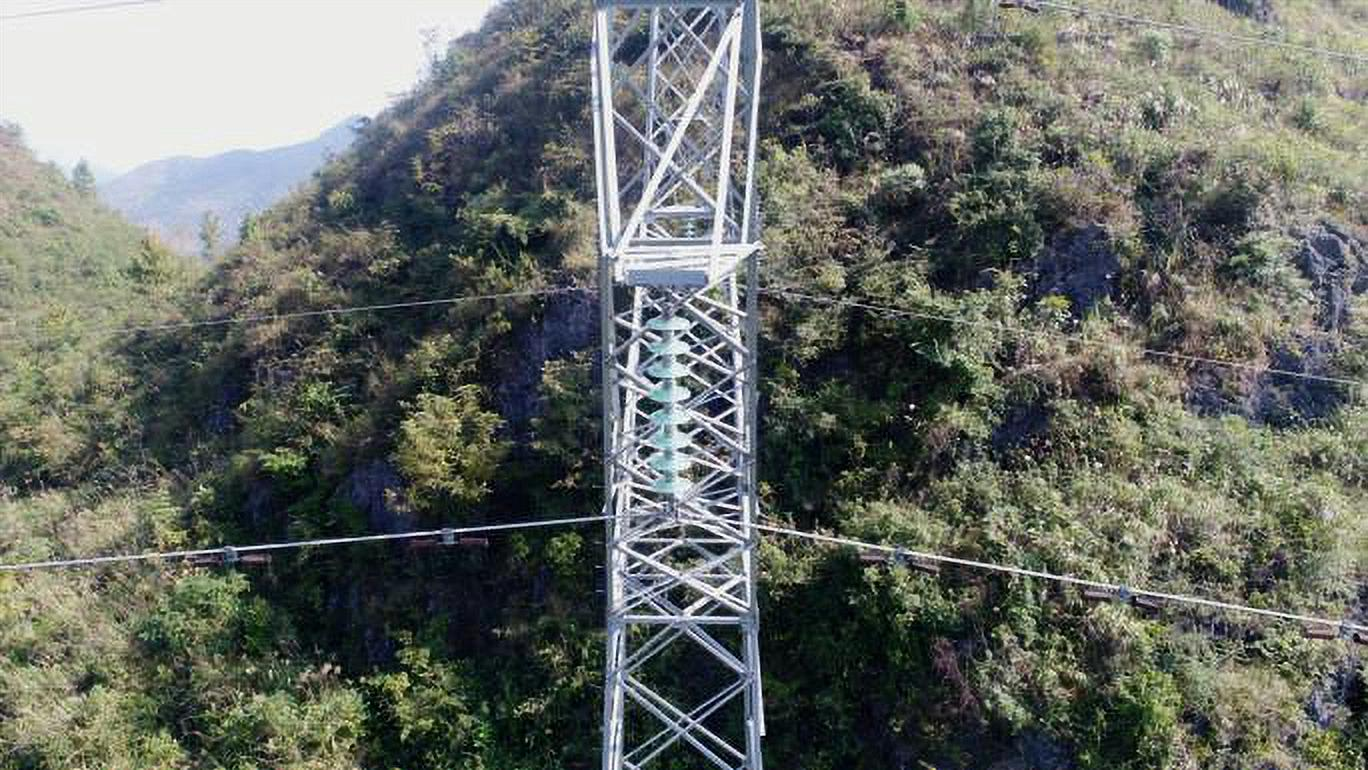insulator: (644, 311, 695, 498)
